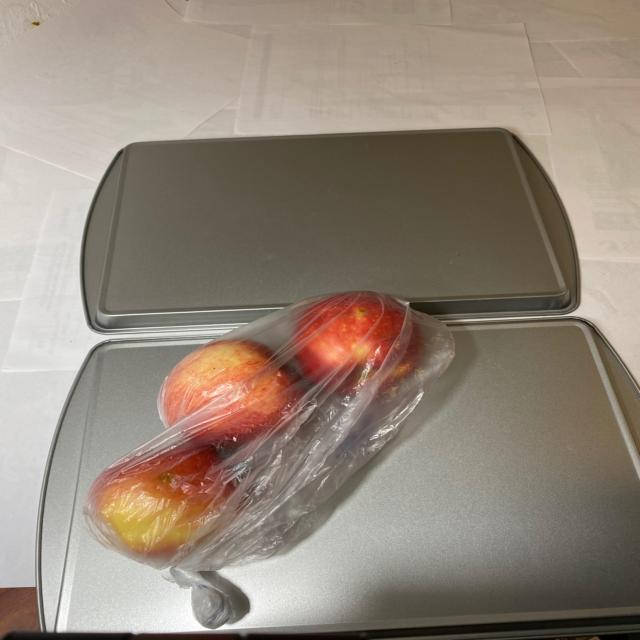apple: (81, 286, 440, 576)
